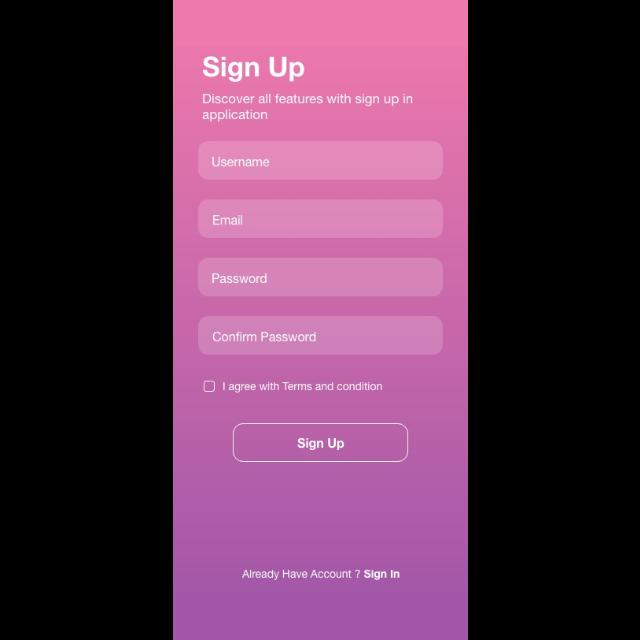checkbox: (202, 381, 214, 392)
input: (198, 141, 442, 181), (198, 316, 442, 356), (198, 200, 442, 238), (198, 258, 442, 296)
text: (202, 95, 412, 124), (202, 56, 306, 84), (222, 382, 382, 393), (242, 570, 400, 580), (211, 331, 315, 343), (212, 156, 268, 168), (212, 274, 266, 284), (212, 216, 242, 227)
textbutton: (232, 423, 408, 462)
